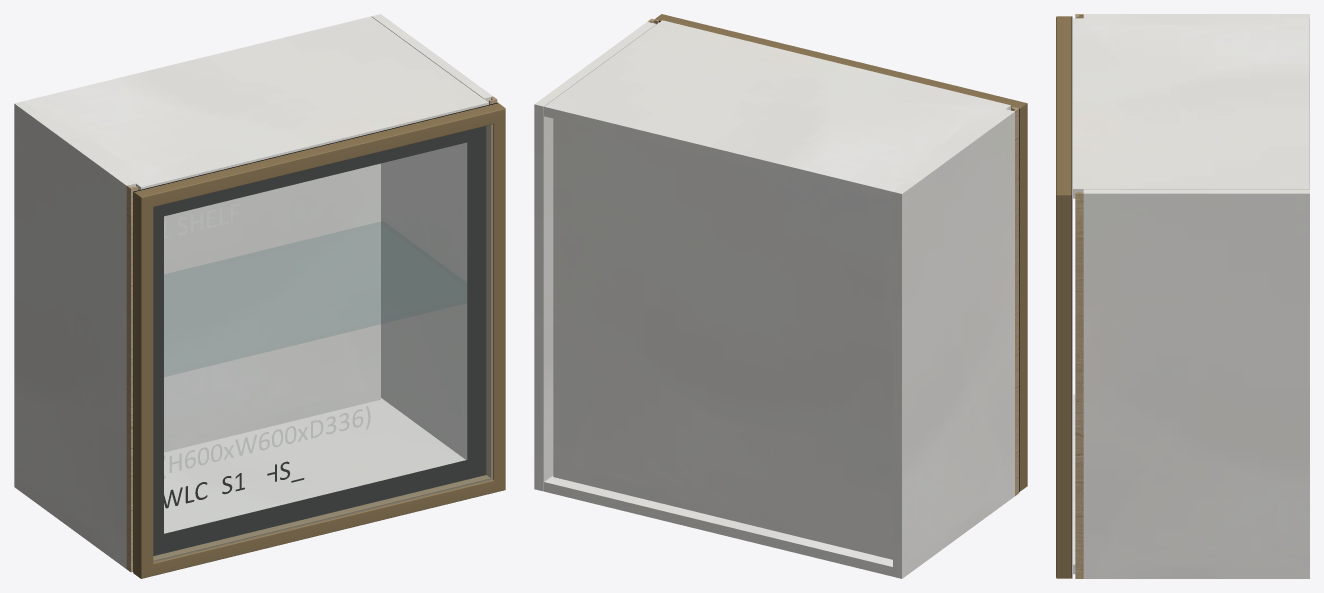
Rendered from LO-SH-NHX-GL-1SG-LHS-XXX-600-600-336-15.glb.
The picture shows the model from 3 angles, left to right: view 1: azimuth 30°, elevation 25°; view 2: azimuth 150°, elevation 25°; view 3: azimuth 270°, elevation 25°; orthographic projection.
Parts seen in each view (by area): view 1: Object_node_4, TP_node_2, TP_node_0, TP, Neon 22 Profile ALU PROF NEON 20 L21XH22.5MM 3MTR S2/405 SEC (×4), TP_node_1, Object_node_6, TP_node, Object_node_8, 2D text_node_0, 2D text_node; view 2: TP_node_2, TP_node_0, TP, TP_node_1, TP_node, Neon 22 Profile ALU PROF NEON 20 L21XH22.5MM 3MTR S2/405 SEC (×2), Object_node_8; view 3: TP_node_1, TP, Neon 22 Profile ALU PROF NEON 20 L21XH22.5MM 3MTR S2/405 SEC (×2), Object_node_14, TP_node_0, Object_node_6, TP_node.
Part boxes in pixels (<box>): Object_node_4: <box>153,124,492,562</box>; TP_node_2: <box>164,163,380,452</box>; TP_node_0: <box>14,101,135,568</box>; TP: <box>23,16,488,190</box>; Neon 22 Profile ALU PROF NEON 20 L21XH22.5MM 3MTR S2/405 SEC (×4): <box>134,103,505,578</box>; TP_node_1: <box>371,14,492,459</box>; Object_node_6: <box>133,102,497,573</box>; TP_node: <box>164,398,465,533</box>; Object_node_8: <box>126,185,138,572</box>; 2D text_node_0: <box>164,406,370,478</box>; 2D text_node: <box>164,461,304,508</box>; TP_node_2: <box>553,118,892,559</box>; TP_node_0: <box>893,109,1014,578</box>; TP: <box>544,20,1010,201</box>; TP_node_1: <box>534,21,656,491</box>; TP_node: <box>544,475,892,576</box>; Neon 22 Profile ALU PROF NEON 20 L21XH22.5MM 3MTR S2/405 SEC (×2): <box>655,14,1027,491</box>; Object_node_8: <box>1011,106,1019,495</box>; TP_node_1: <box>1083,189,1309,578</box>; TP: <box>1073,18,1309,198</box>; Neon 22 Profile ALU PROF NEON 20 L21XH22.5MM 3MTR S2/405 SEC (×2): <box>1056,16,1071,578</box>; Object_node_14: <box>1075,190,1083,578</box>; TP_node_0: <box>1083,14,1309,188</box>; Object_node_6: <box>1071,16,1072,578</box>; TP_node: <box>1073,394,1075,574</box>.
Size of what is drawn, in the model's own units: 0.6 by 0.6 by 0.358.
8 materials, 2 textured.
